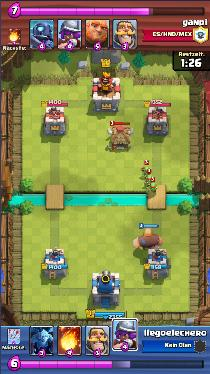ally_giant: (132, 228, 163, 249)
enemy_goblin_hut: (106, 125, 133, 151)
enemy_spear_goblin: (146, 182, 157, 194), (144, 175, 153, 187), (141, 166, 151, 173)
